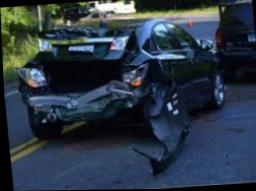Bumper: (20, 82, 171, 121)
Dickey: (23, 31, 142, 97)
Light: (14, 67, 46, 86), (121, 63, 147, 85)
